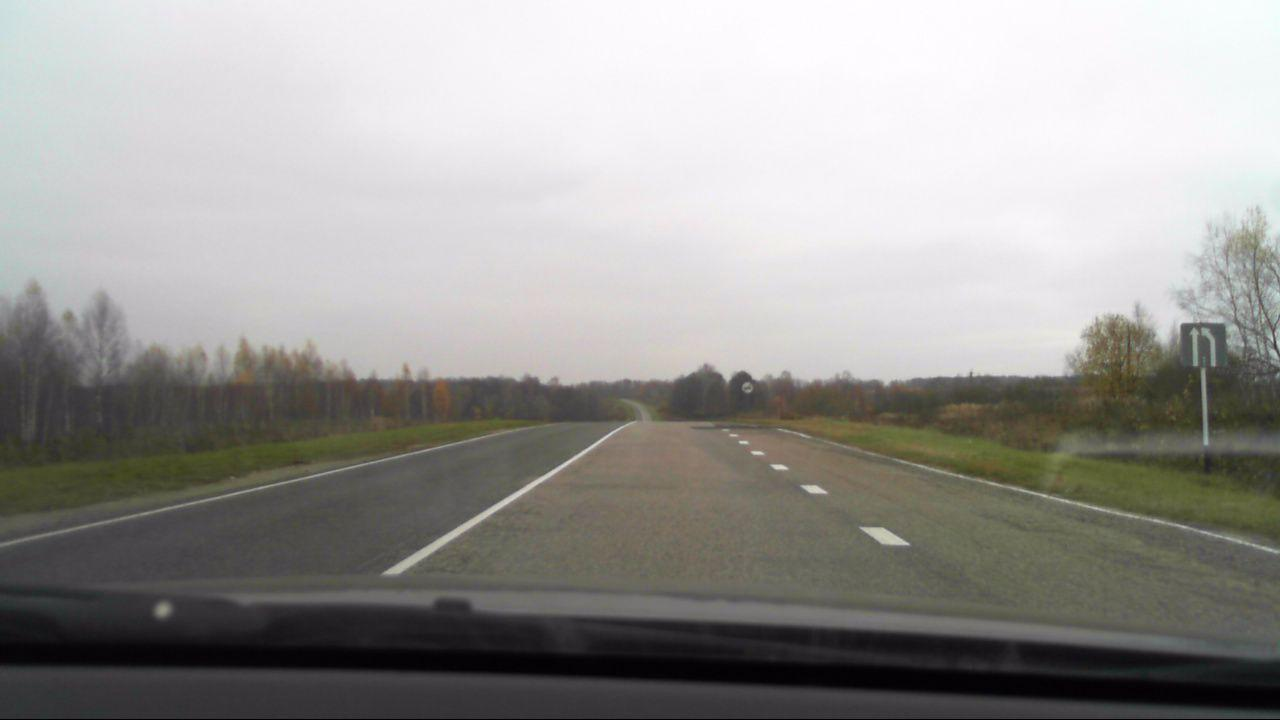3_21: (742, 381, 755, 395)
5_15_5: (1181, 322, 1229, 371)
